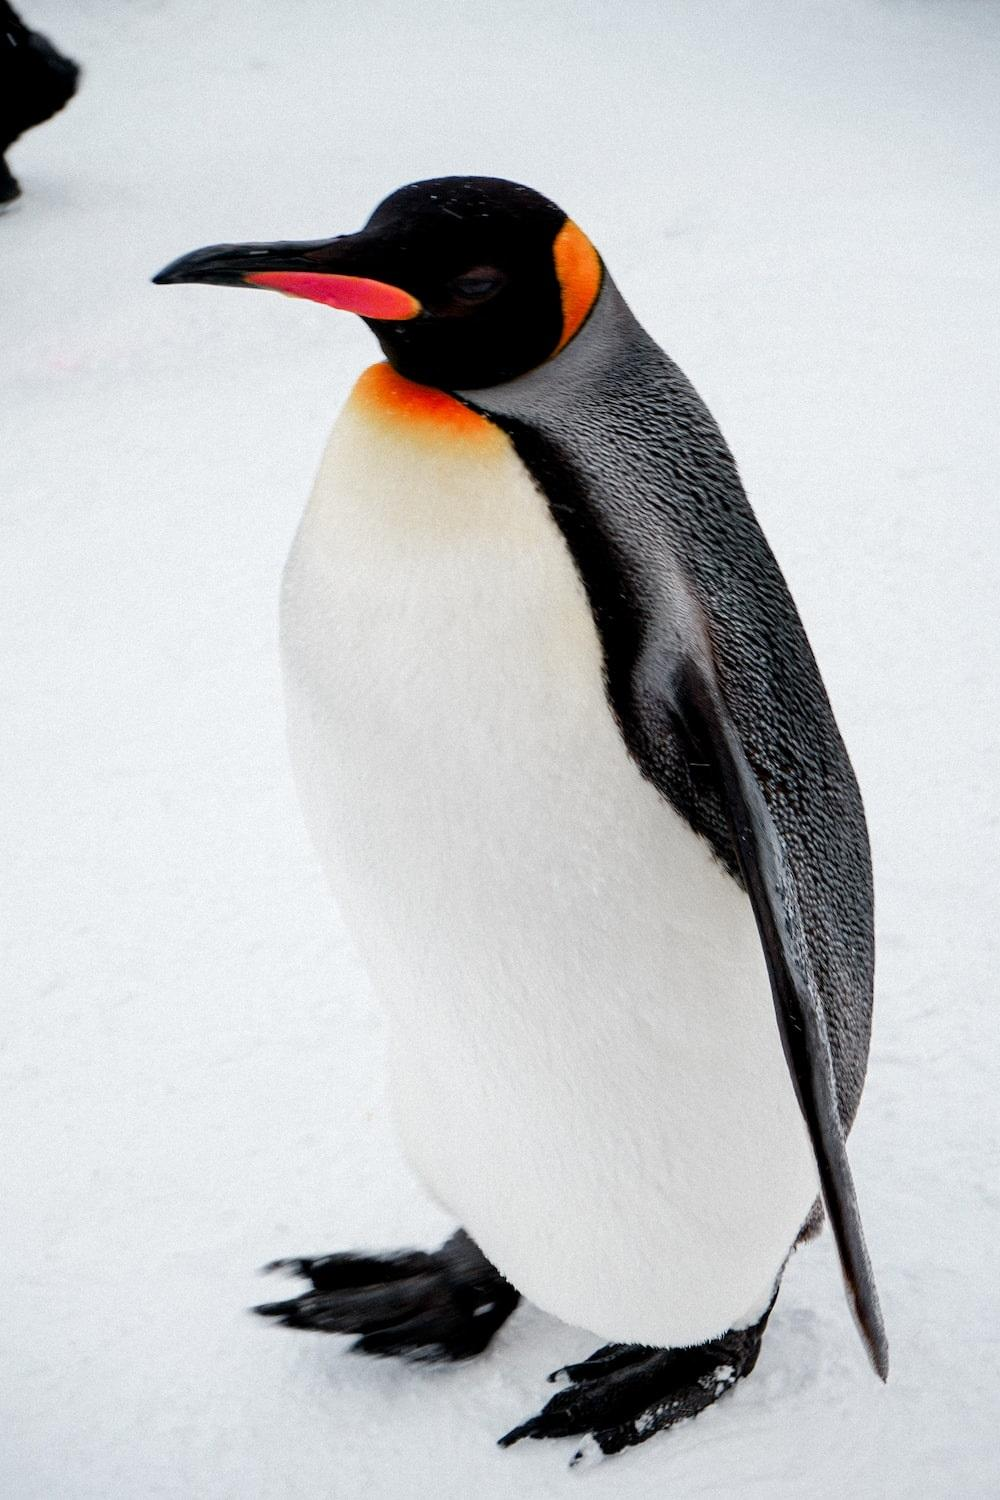king: (107, 123, 973, 1500)
